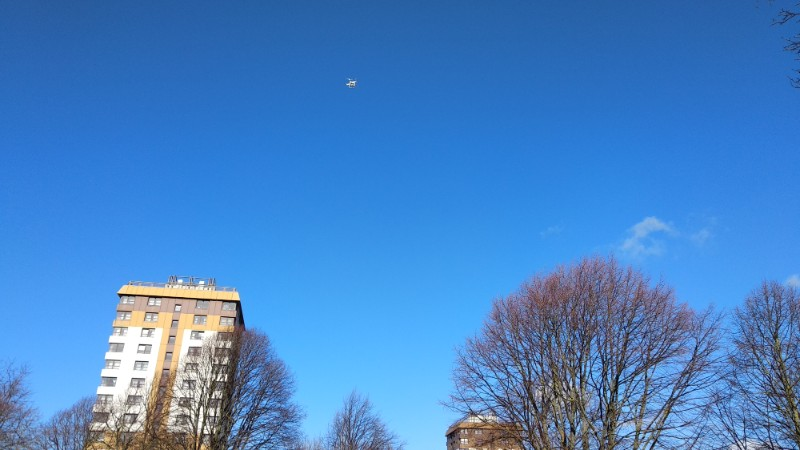drone: (344, 78, 358, 88)
